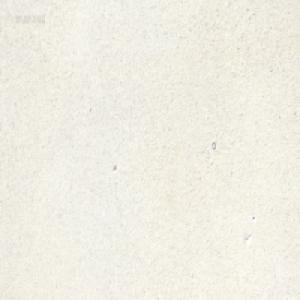Washer: (210, 140, 215, 149)
